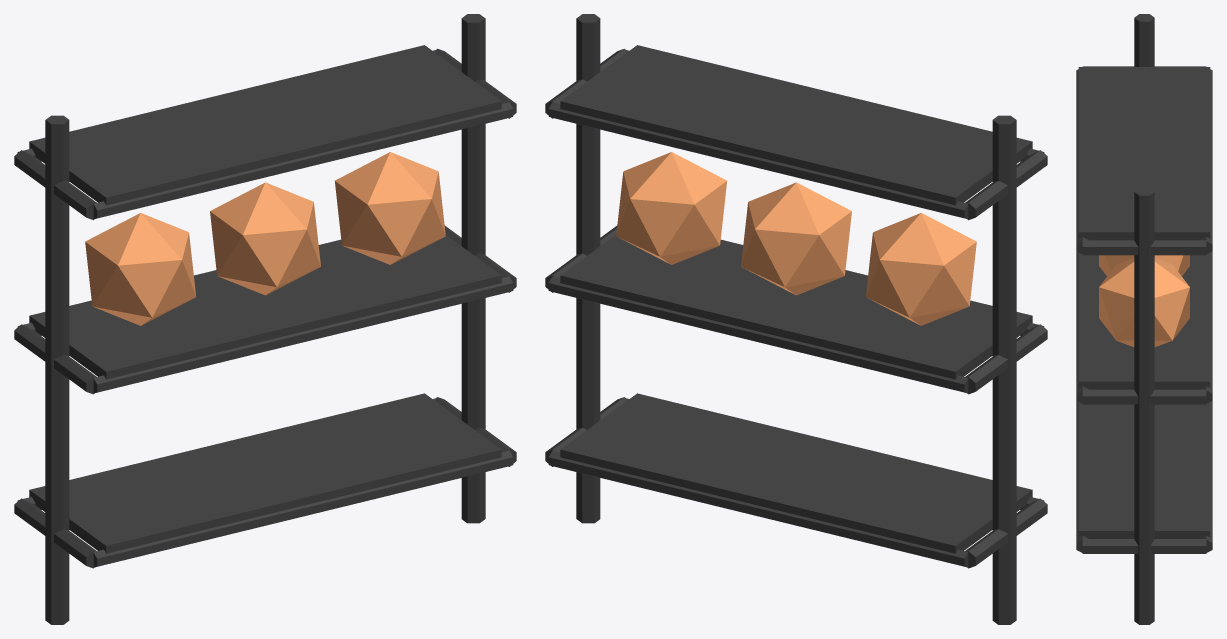
3 renders of one model, left to right at view 1: azimuth 30°, elevation 25°; view 2: azimuth 150°, elevation 25°; view 3: azimuth 270°, elevation 25°, orthographic. The views are drawn at different scales.
Visible parts, largest first — view 1: Ball shelf.002, Ball shelf, Ball shelf.001, Frame, Ball, Ball.002, Ball.001, Frame.001, Rail, Rail.004, Rail.002, Rack end brace (+2 smaller); view 2: Ball shelf.002, Ball shelf, Ball shelf.001, Frame, Ball, Ball.002, Ball.001, Frame.001, Rail.001, Rail.005, Rail.003, Rack end brace (+2 smaller); view 3: Ball shelf.002, Ball shelf, Ball shelf.001, Frame.001, Ball.002, Rack end brace.003, Rack end brace.005, Rack end brace.001, Frame, Ball.001, Rail.004, Rail.005 (+4 smaller).
Boxes of the visible parts, box(x1,y1,x2,y2) form: Ball shelf.002: box(29, 45, 501, 205); Ball shelf: box(29, 393, 501, 553); Ball shelf.001: box(29, 235, 501, 379); Frame: box(45, 115, 69, 624); Ball: box(85, 213, 195, 325); Ball.002: box(335, 152, 445, 264); Ball.001: box(210, 182, 320, 295); Frame.001: box(461, 14, 485, 523); Rail: box(93, 450, 513, 567); Rail.004: box(93, 102, 513, 219); Rail.002: box(93, 276, 513, 393); Rack end brace: box(14, 498, 96, 568); Ball shelf.002: box(560, 45, 1032, 205); Ball shelf: box(560, 393, 1032, 553); Ball shelf.001: box(560, 235, 1032, 379); Frame: box(992, 115, 1016, 624); Ball: box(866, 213, 976, 325); Ball.002: box(616, 152, 726, 264); Ball.001: box(741, 182, 851, 295); Frame.001: box(576, 14, 600, 523); Rail.001: box(548, 450, 968, 567); Rail.005: box(548, 102, 968, 219); Rail.003: box(548, 276, 968, 393); Rack end brace: box(965, 498, 1047, 568); Ball shelf.002: box(1078, 67, 1210, 240); Ball shelf: box(1078, 402, 1210, 538); Ball shelf.001: box(1078, 253, 1210, 389); Frame.001: box(1134, 188, 1154, 624); Ball.002: box(1099, 258, 1189, 346); Rack end brace.003: box(1082, 389, 1206, 404); Rack end brace.005: box(1082, 240, 1206, 255); Rack end brace.001: box(1082, 539, 1206, 553); Frame: box(1134, 14, 1154, 66); Ball.001: box(1099, 255, 1189, 276); Rail.004: box(1076, 69, 1088, 254); Rail.005: box(1200, 69, 1212, 254).
Size of the model in its own units: 1.04 by 1.15 by 0.3312.
Materials: 1 (1 with a texture image).
